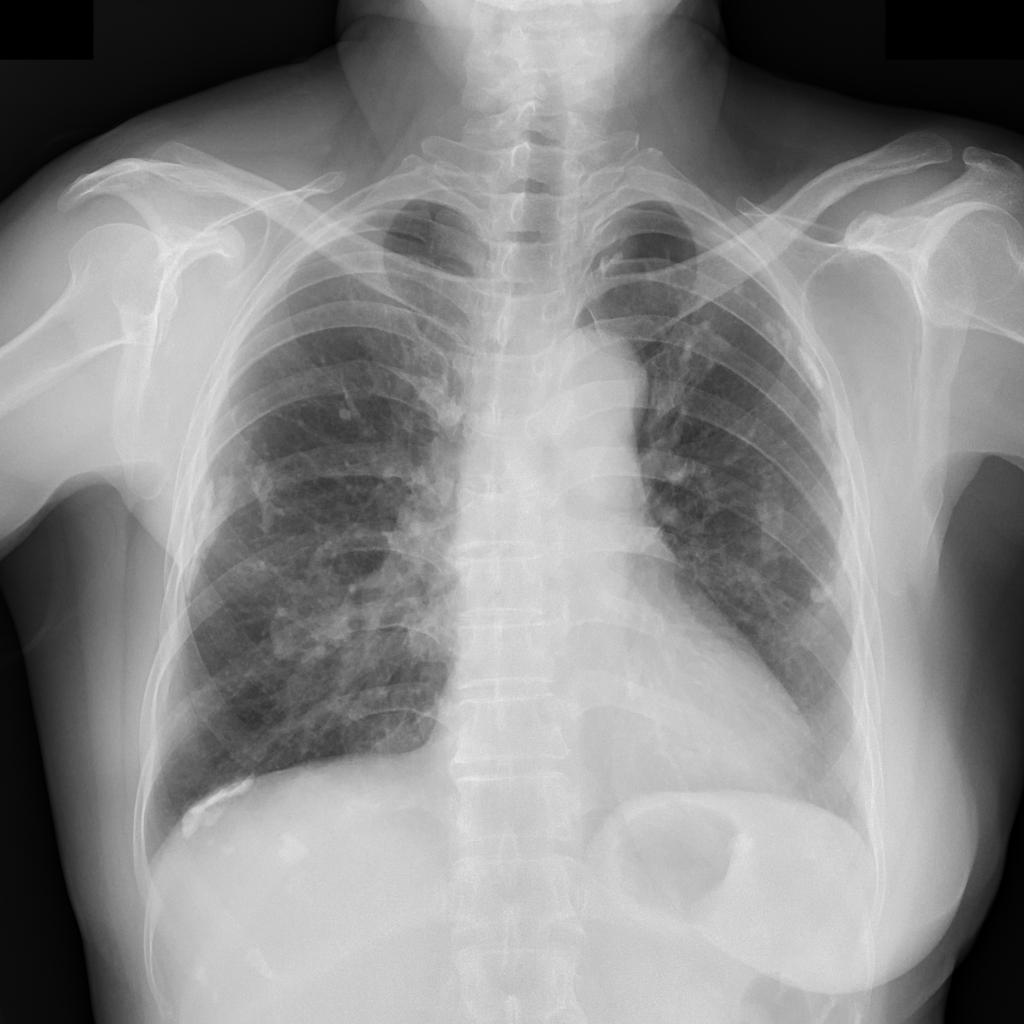Nodule: (281, 838, 307, 865), (811, 584, 833, 610), (835, 483, 853, 501), (339, 407, 353, 420), (751, 300, 760, 310)
